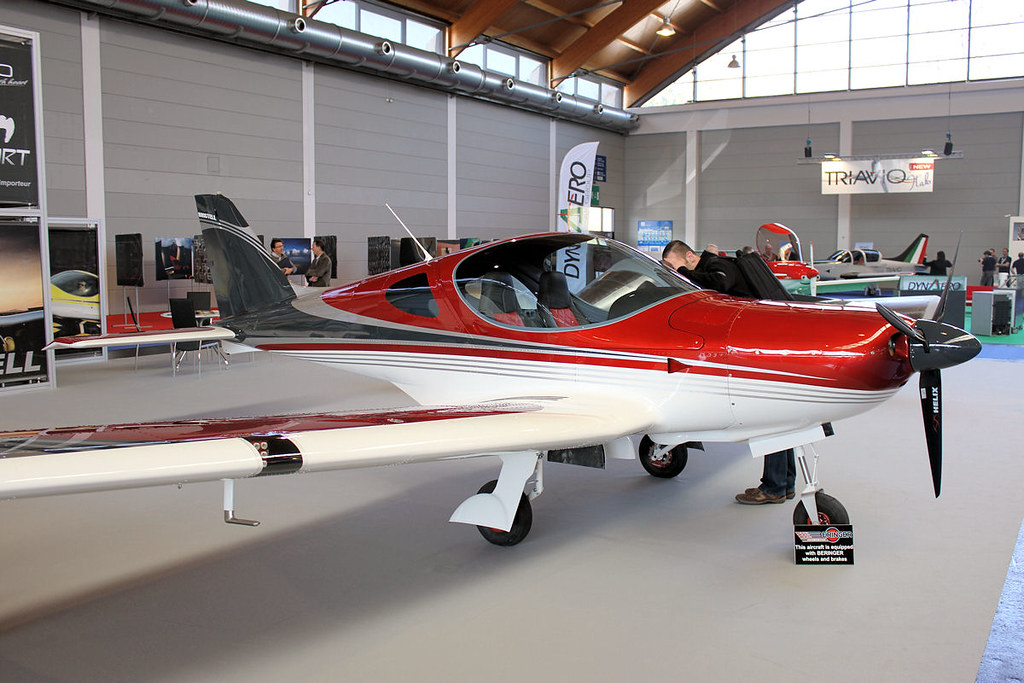aeroplane: (6, 189, 980, 571), (703, 233, 952, 287)
